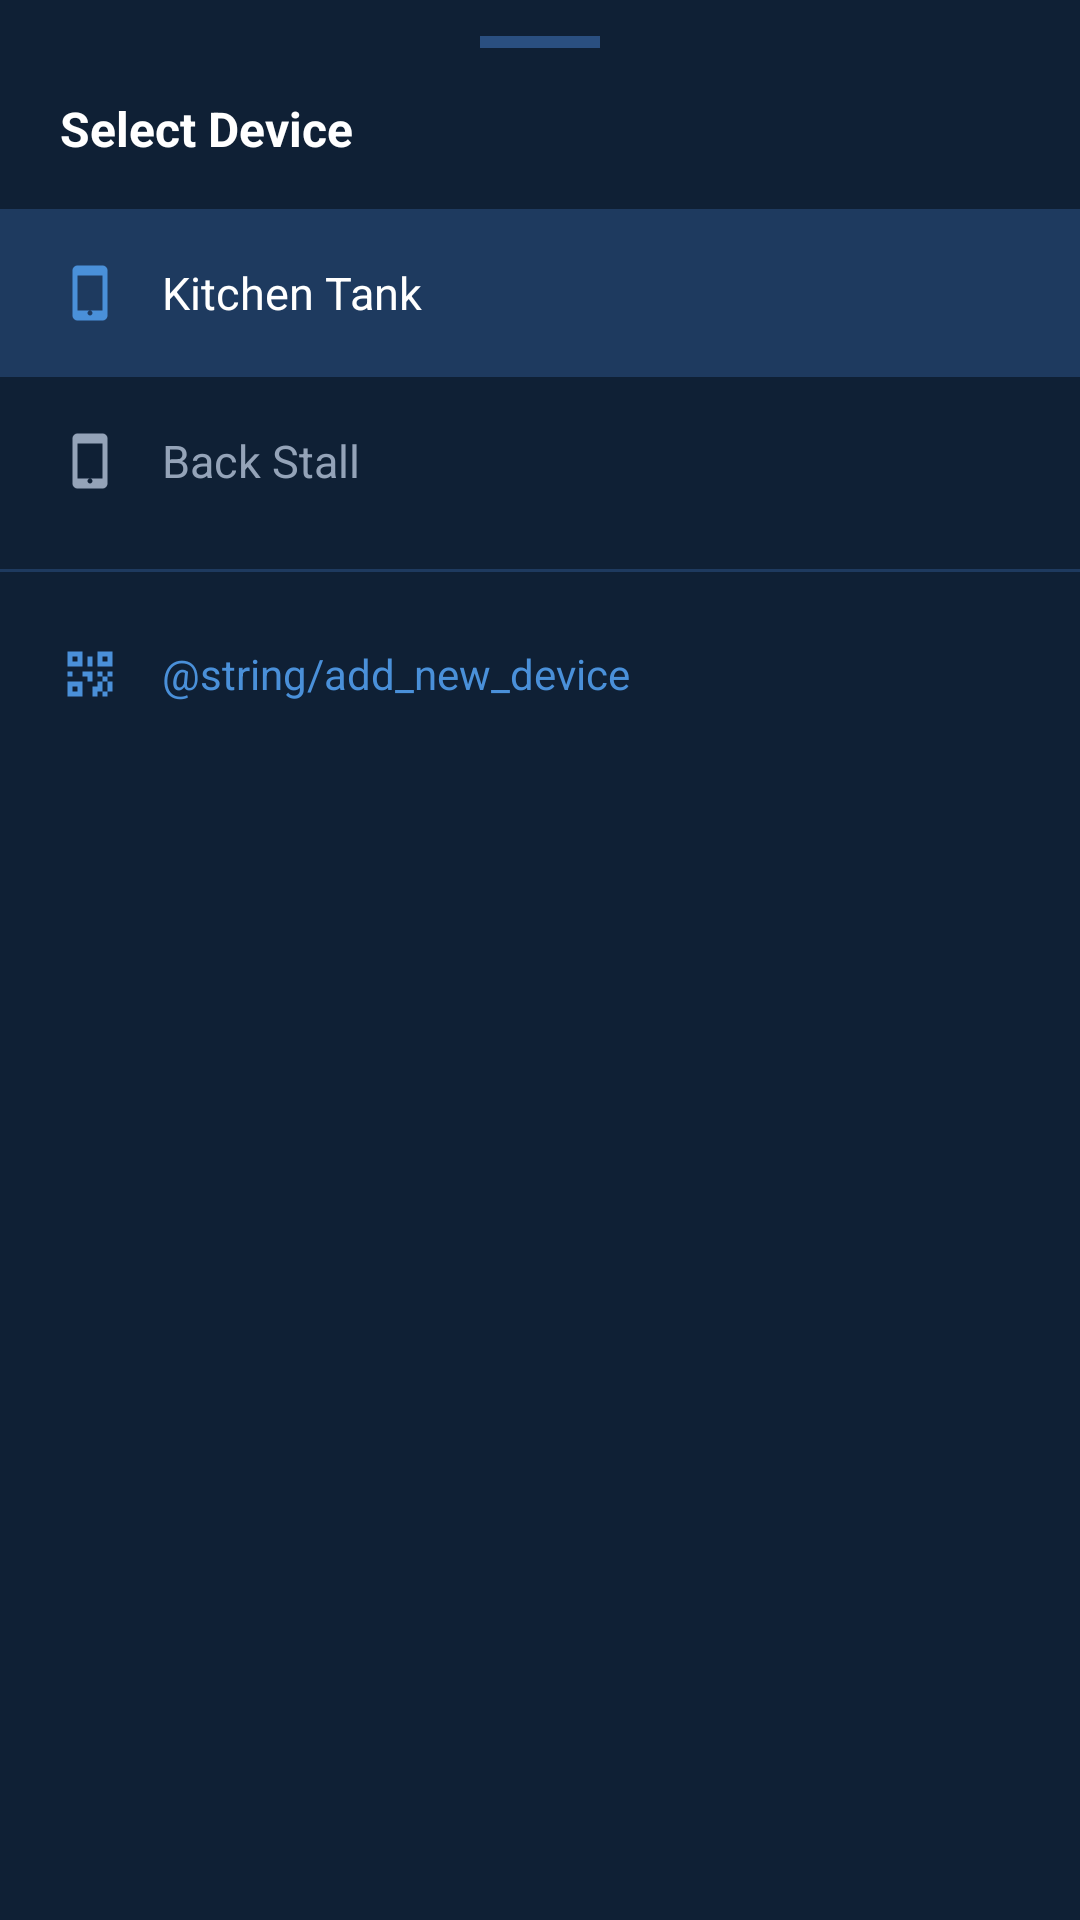

Icons on this 1080×1920 Android screen, each with the point to tap as (x=x, y=y):
qr code: (x=90, y=674)
